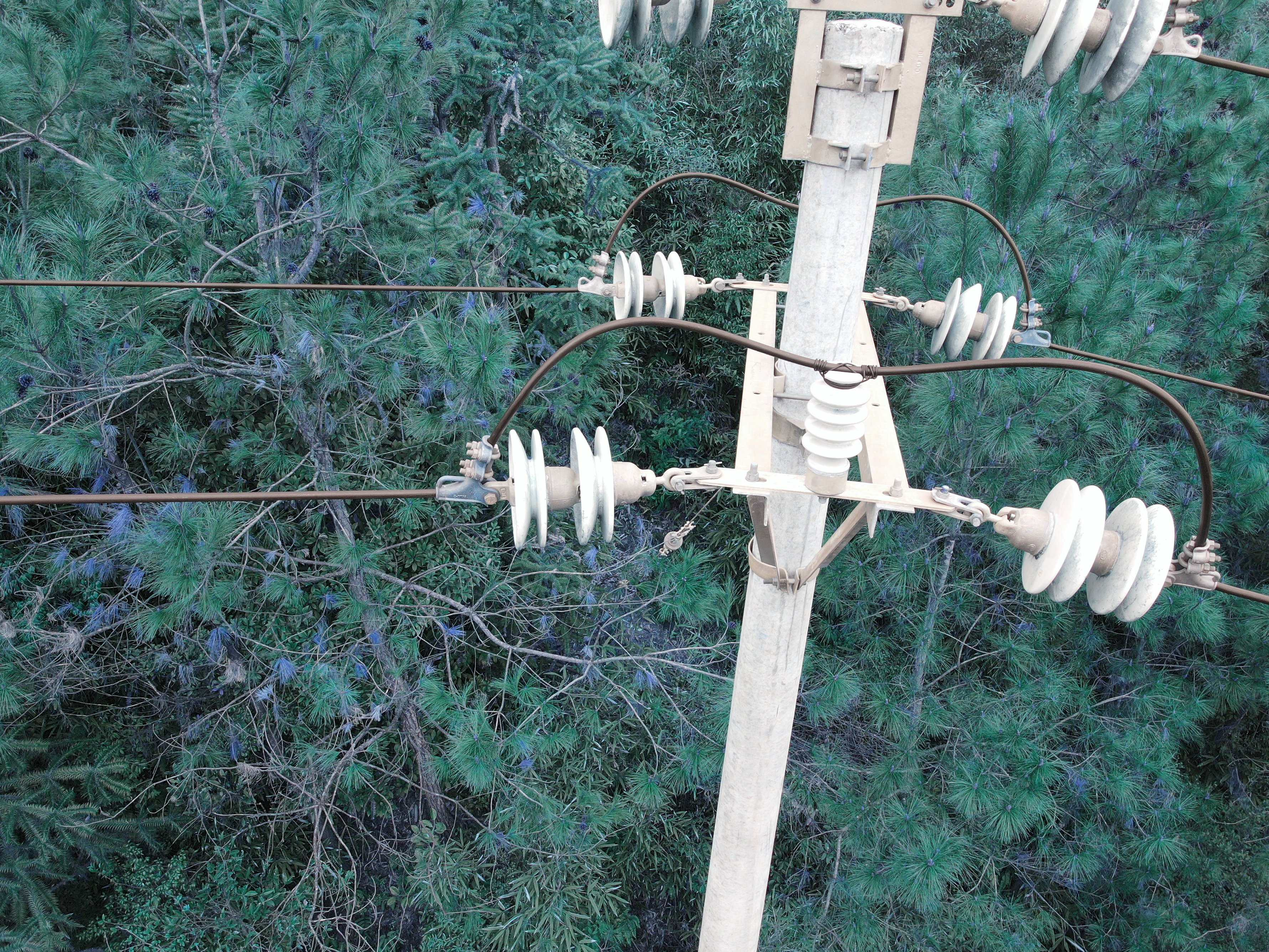severe_soiling_no_discharge_whole: (1003, 475, 1182, 626), (996, 3, 1174, 111), (911, 274, 1022, 358), (598, 1, 718, 53)
